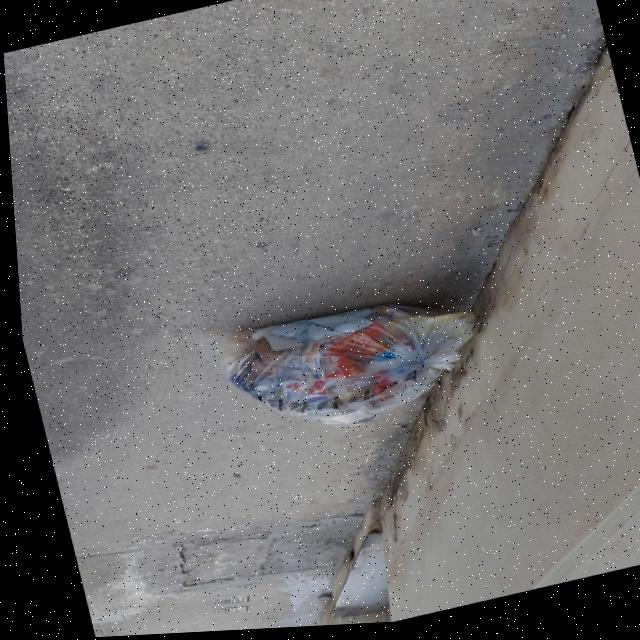Organic Waste -White Bag-: (210, 283, 479, 452)
